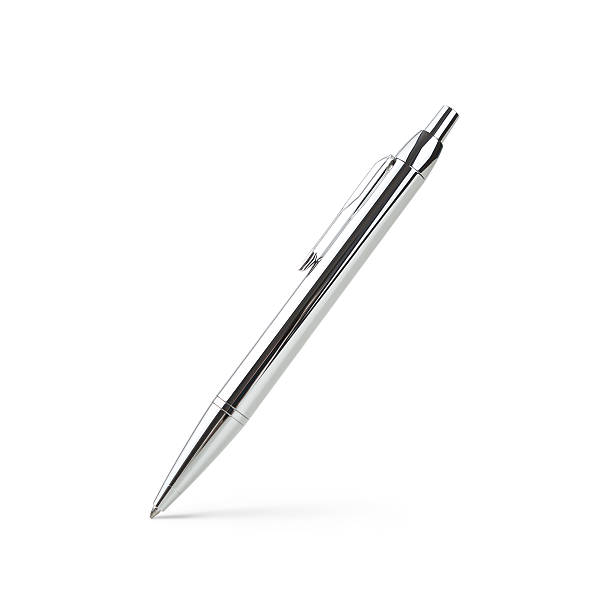pen: (132, 93, 481, 532)
